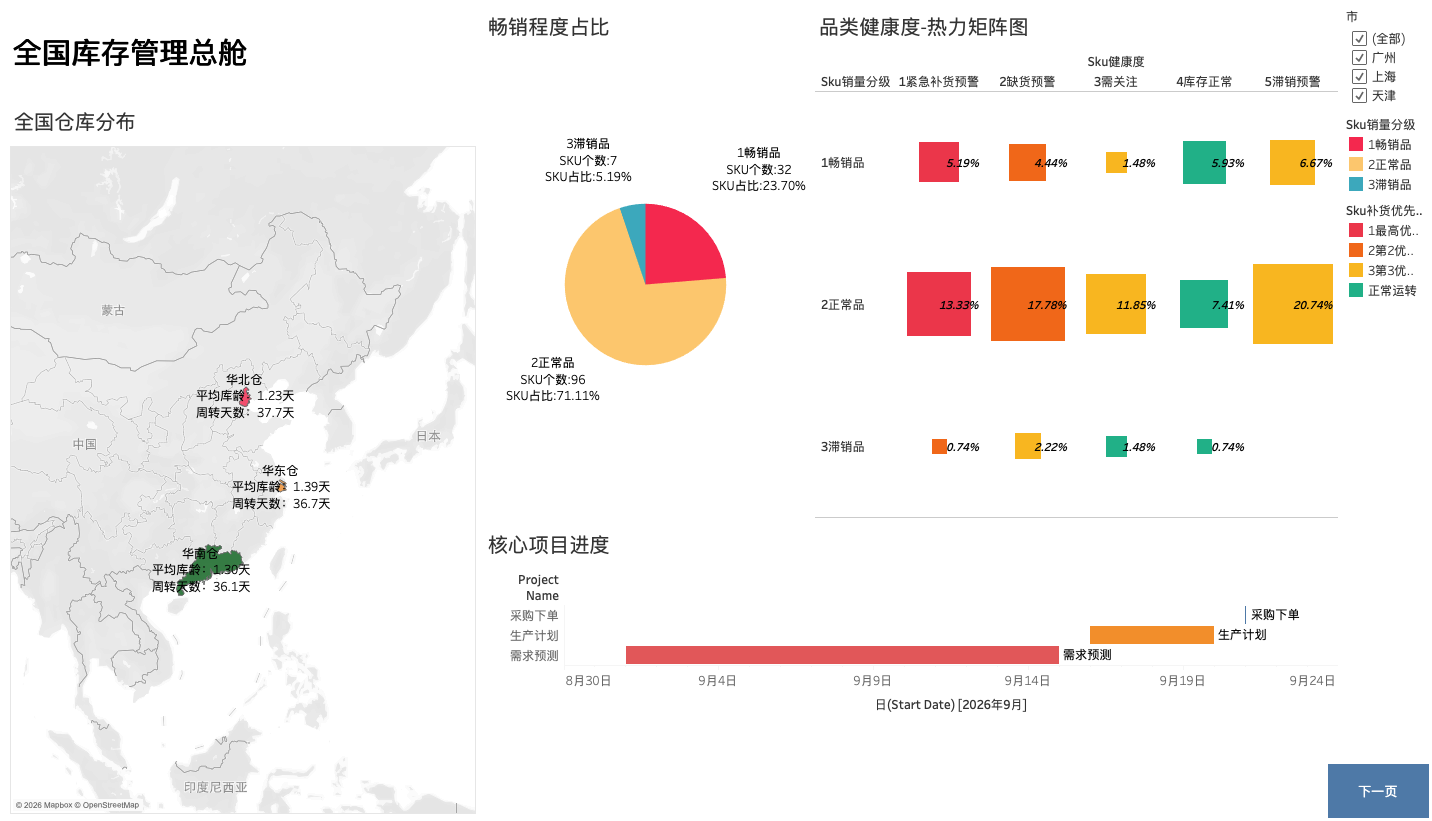

Layout of this report page (visuals, bound fields, positions):
{"tool":"tableau","page":{"name":"仪表板 1-全国库存管理总舱","canvas":[1000,1000],"units":"permille","ordinal":0},"visuals":[{"type":"text","box":[6.5,12.7,324.8,114.2]},{"type":"worksheet","title":"2. 畅销占比","mark":"Pie","box":[331.3,12.7,227,620.6]},{"type":"worksheet","title":"3.品类健康度-热力矩阵图V2","mark":"Automatic","rows":["SKU销量分级"],"cols":["SKU健康度"],"box":[558.3,12.7,363.6,620.6]},{"type":"filter","title":"2. 畅销占比","param":"[federated.1huelxk1otaock181afyk0m04uq1].[none:address - 拆分 1:nk]","box":[921.9,12.7,71.6,171.4]},{"type":"worksheet","title":"1.全国仓库分布","mark":"Multipolygon","box":[6.5,127,324.8,860.4]},{"type":"legend","title":"2. 畅销占比","param":"[federated.1huelxk1otaock181afyk0m04uq1].[none:SKU销量分级:nk]","box":[921.9,184.1,71.6,136.5]},{"type":"legend","title":"3.品类健康度-热力矩阵图V2","param":"[federated.1huelxk1otaock181afyk0m04uq1].[none:SKU补货优先级:nk]","box":[921.9,320.6,71.6,168.3]},{"type":"worksheet","title":"4.核心项目进程","mark":"Automatic","rows":["project_name"],"cols":["start_date"],"box":[331.3,633.3,590.6,354]},{"type":"dashboard-object","box":[923.5,925.4,70,65.1]}]}

Visuals, with their boxes on the dashboard's canvas, which has no fixed pixel size, in thousandths of its width and height (x1, y1, x2, y2). These are canvas units, not pixel positions in the 1432x821 screenshot, which may show the page scaled, cropped or inside an application window:
text: crop(6, 13, 331, 127)
"2. 畅销占比" worksheet (Pie marks): crop(331, 13, 558, 633)
"3.品类健康度-热力矩阵图V2" worksheet: crop(558, 13, 922, 633)
"2. 畅销占比" filter: crop(922, 13, 994, 184)
"1.全国仓库分布" worksheet (Multipolygon marks): crop(6, 127, 331, 987)
"2. 畅销占比" legend: crop(922, 184, 994, 321)
"3.品类健康度-热力矩阵图V2" legend: crop(922, 321, 994, 489)
"4.核心项目进程" worksheet: crop(331, 633, 922, 987)
dashboard-object: crop(924, 925, 994, 990)
